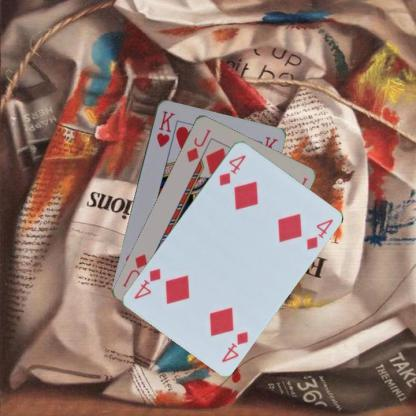4d: (218, 328, 252, 364), (216, 152, 247, 187)
Jd: (183, 126, 212, 163)
Kh: (154, 108, 176, 148)
